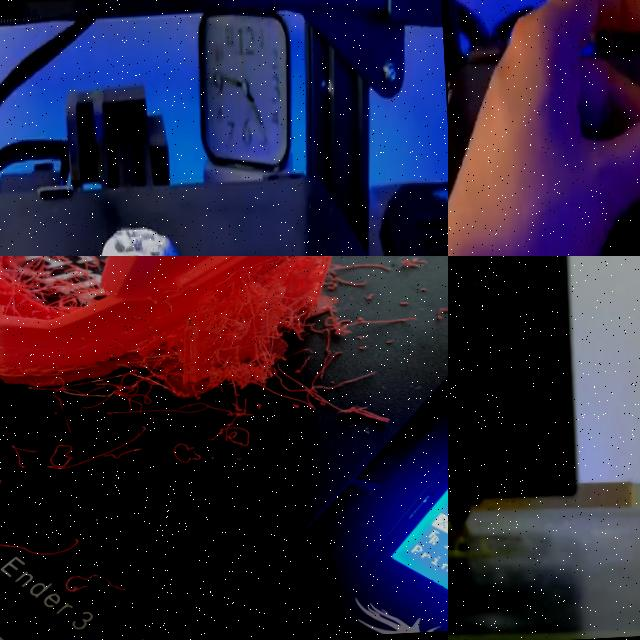spaghetti: (142, 287, 412, 427), (448, 507, 469, 556)
